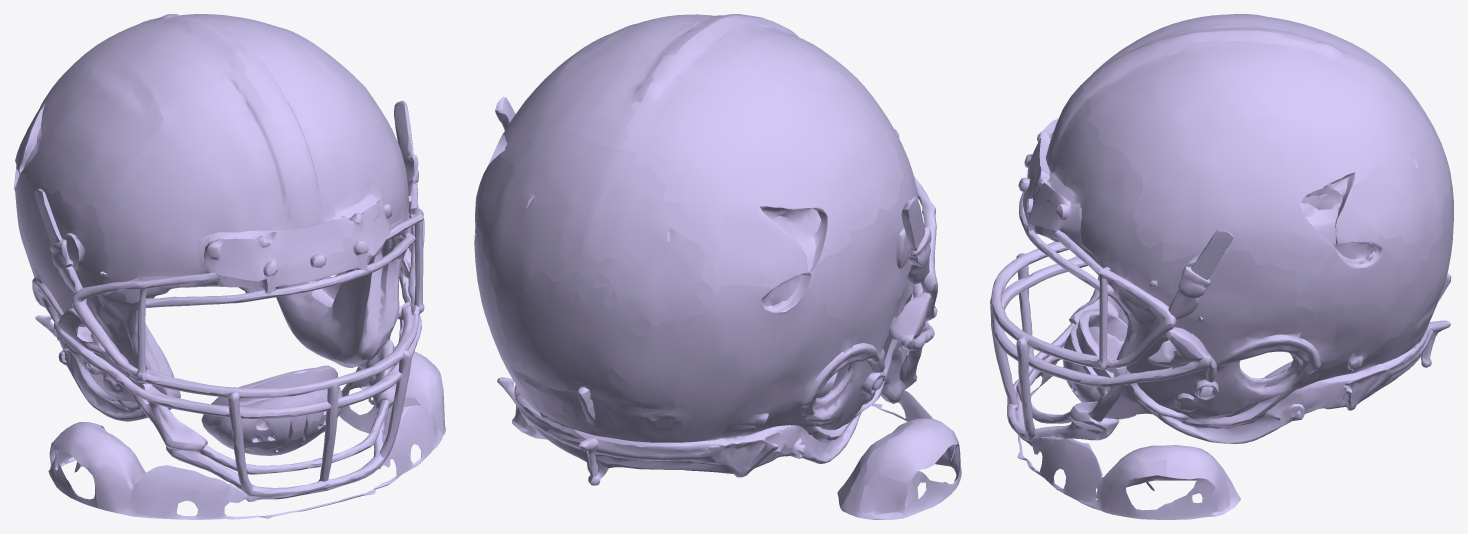
File: chrome-football-helmet.gltf
The picture shows the model from 3 angles, left to right: view 1: azimuth 30°, elevation 25°; view 2: azimuth 150°, elevation 25°; view 3: azimuth 270°, elevation 25°; orthographic projection. The views are drawn at different scales.
Visible parts, largest first — view 1: chrome crystal americal foo...; view 2: chrome crystal americal foo...; view 3: chrome crystal americal foo....
Part boxes in pixels (x1,y1,x2,y2): chrome crystal americal foo...: (14,14,445,519); chrome crystal americal foo...: (474,14,961,519); chrome crystal americal foo...: (990,14,1453,519).
Bounding box in the file's own units: 1.36 × 1.4 × 1.47.
